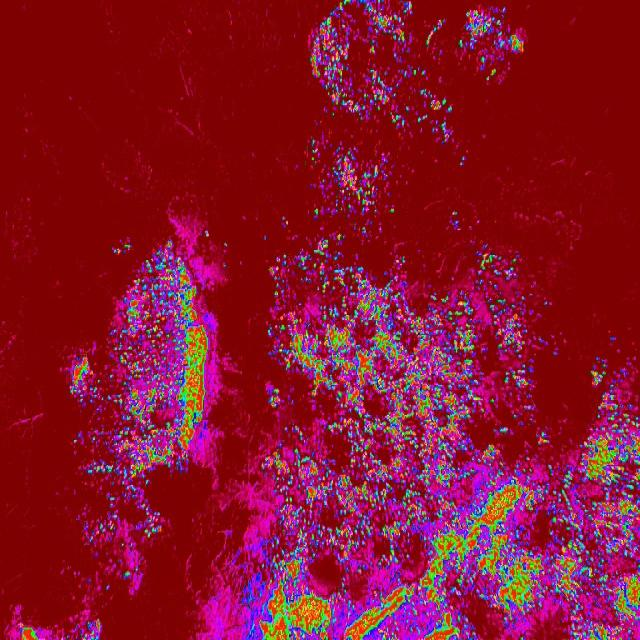fire: (273, 249, 533, 640), (122, 234, 224, 476), (62, 344, 164, 586), (309, 0, 445, 122), (587, 360, 640, 640), (533, 432, 587, 640), (310, 137, 397, 231), (224, 481, 273, 640), (462, 8, 526, 84), (15, 612, 100, 640)
